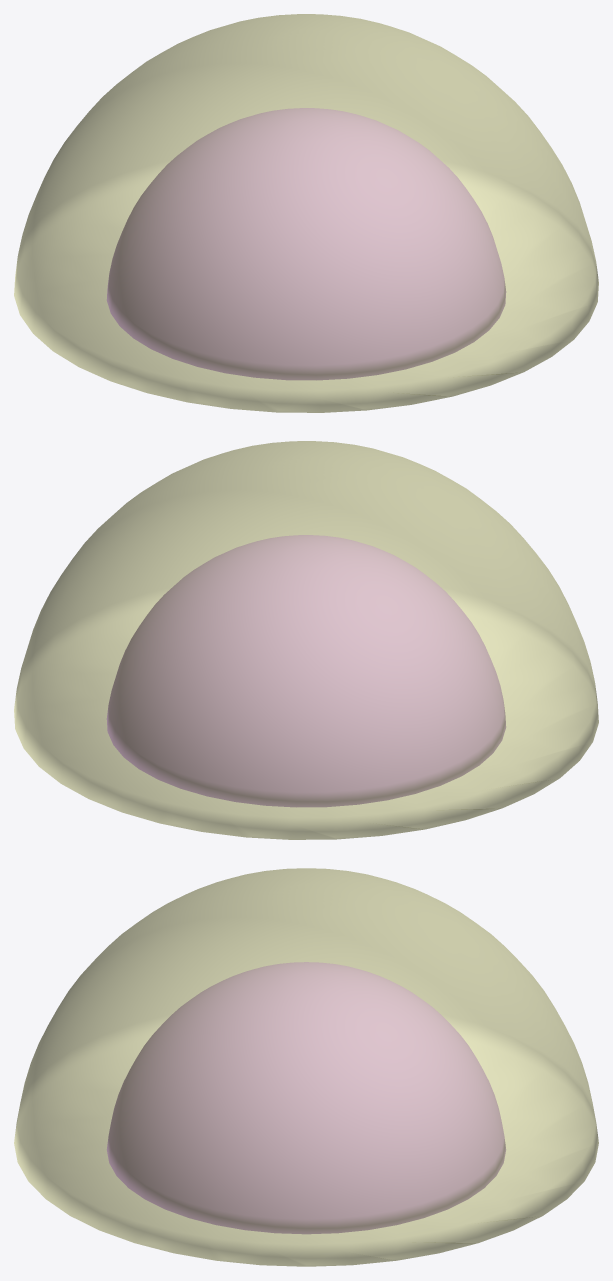
Rendered from jello.fbx.
3 renders of one model, top to bottom at view 1: azimuth 30°, elevation 25°; view 2: azimuth 150°, elevation 25°; view 3: azimuth 270°, elevation 25°, orthographic.
Parts seen in each view (by area): view 1: pSphere2, pSphere1; view 2: pSphere2, pSphere1; view 3: pSphere2, pSphere1.
Boxes of the visible parts, <box> form: pSphere2: <box>14,14,598,412</box>; pSphere1: <box>107,108,506,380</box>; pSphere2: <box>14,441,598,839</box>; pSphere1: <box>106,535,505,807</box>; pSphere2: <box>14,868,598,1266</box>; pSphere1: <box>107,962,505,1234</box>.
Bounding box in the file's own units: 2.88 × 1.46 × 2.88.
